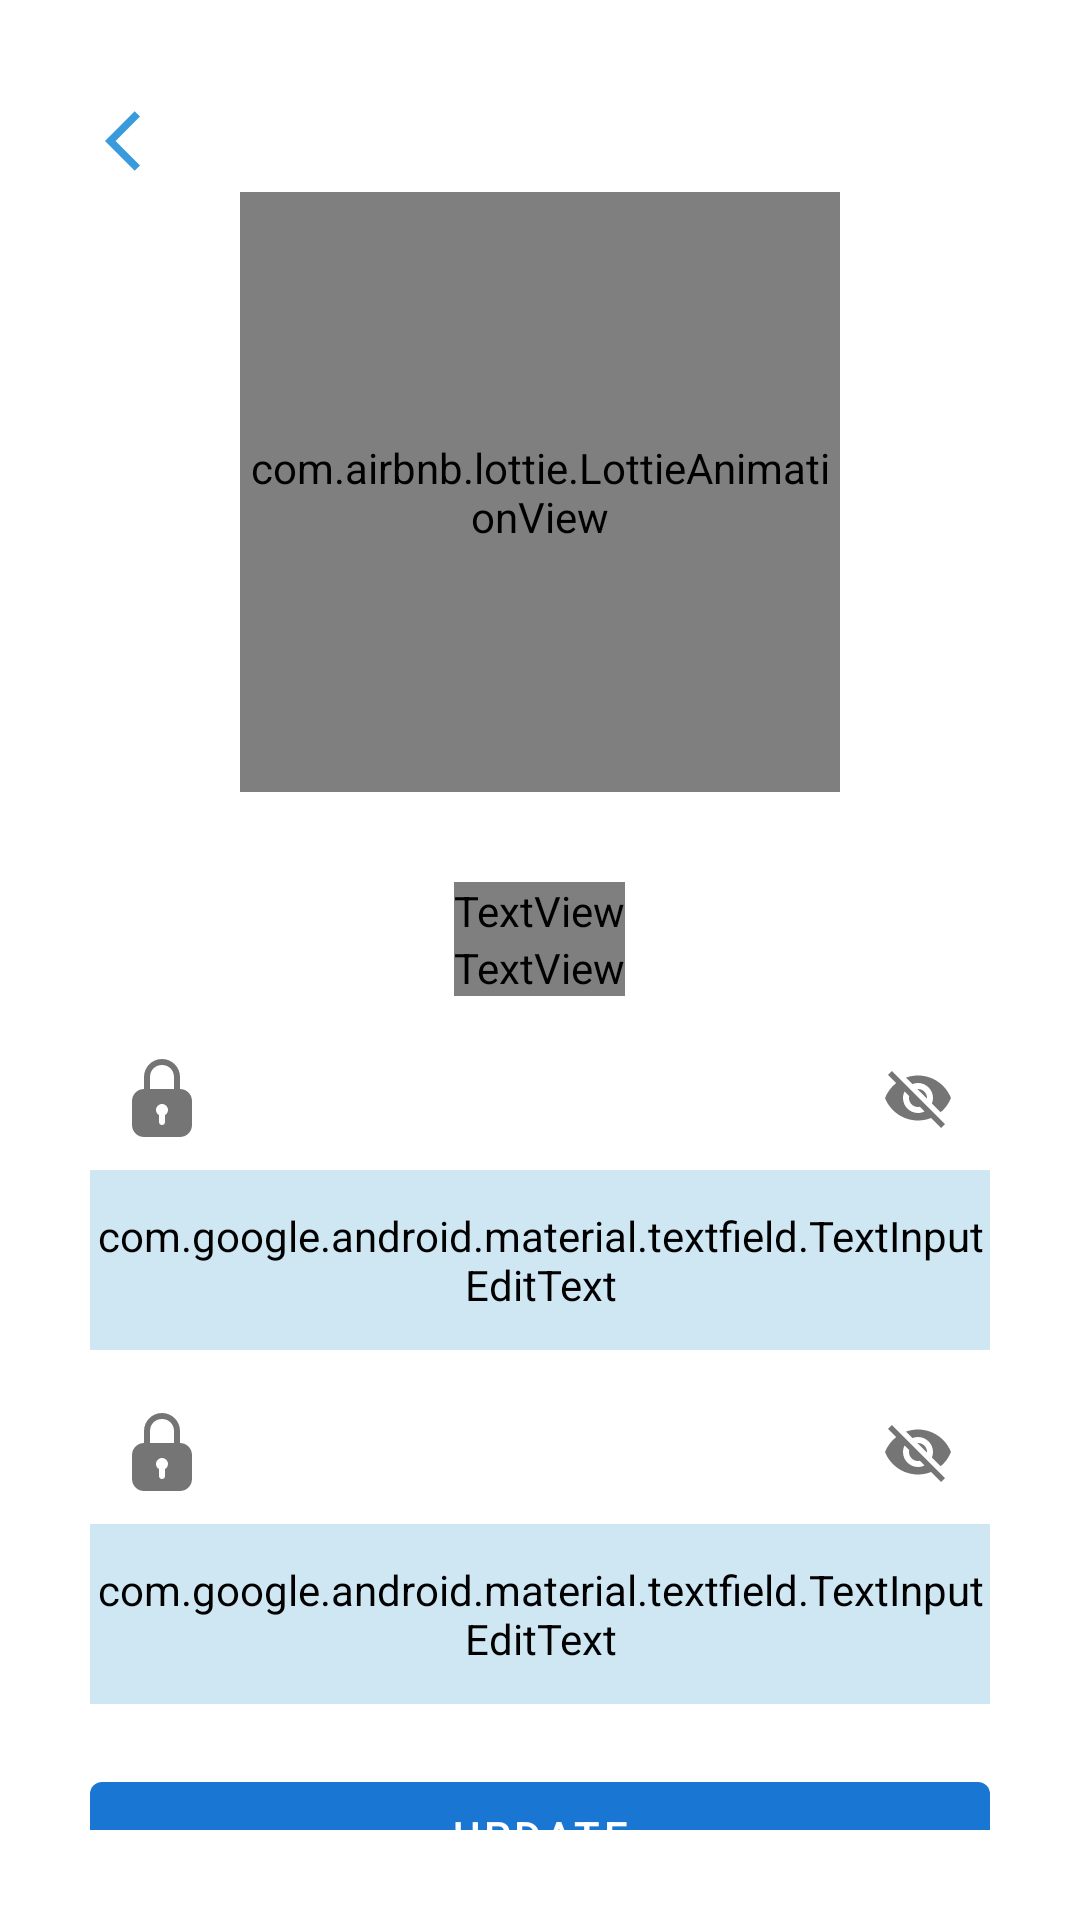

Icons on this 1080 x 1920 Android screen, each with its box as (x1, y1, x2, y2):
general back: (105, 111, 140, 171)
